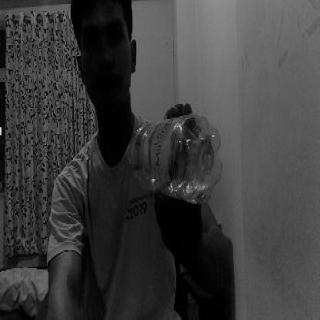plastic_bottles: (124, 118, 221, 202)
